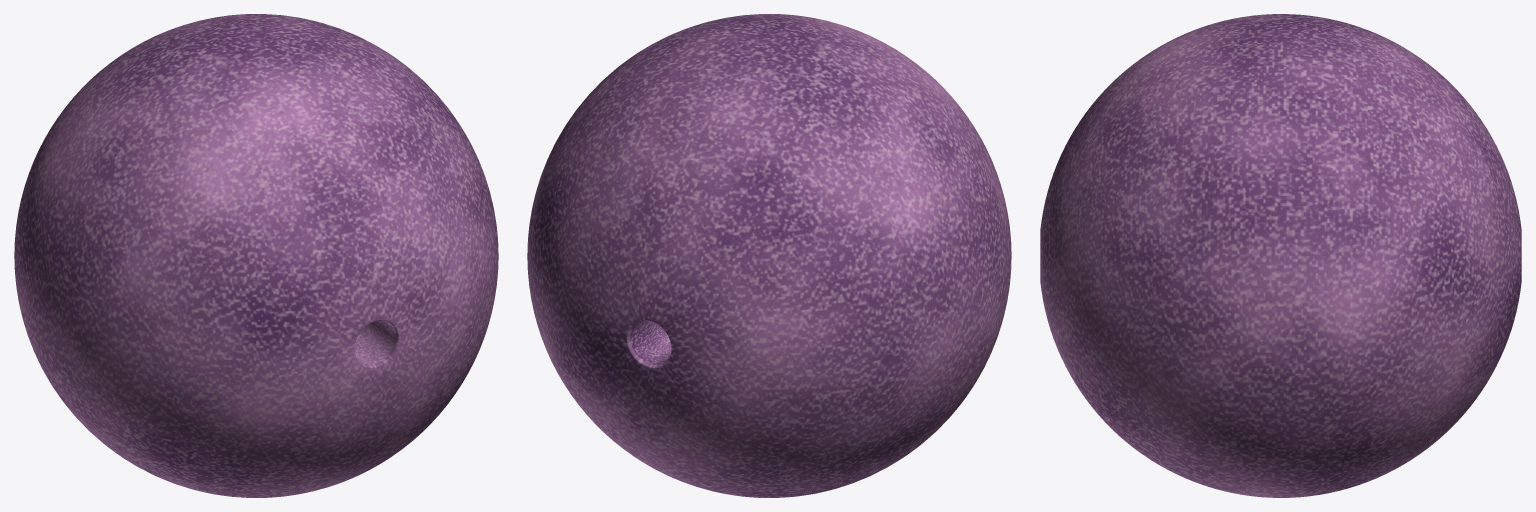
File: lepidolite-10mm.glb
3 renders of one model, left to right at view 1: azimuth 30°, elevation 25°; view 2: azimuth 150°, elevation 25°; view 3: azimuth 270°, elevation 25°, orthographic.
Visible parts, largest first — view 1: lepidolite.001; view 2: lepidolite.001; view 3: lepidolite.001.
Part boxes in pixels (x1,y1,x2,y2): lepidolite.001: (14,14,498,497); lepidolite.001: (527,14,1011,497); lepidolite.001: (1040,14,1521,497).
Size of the model in its own units: 0.01 by 0.01 by 0.00994.
1 material, 1 textured.
